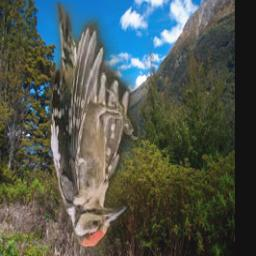Woodpecker: (49, 2, 139, 246)
